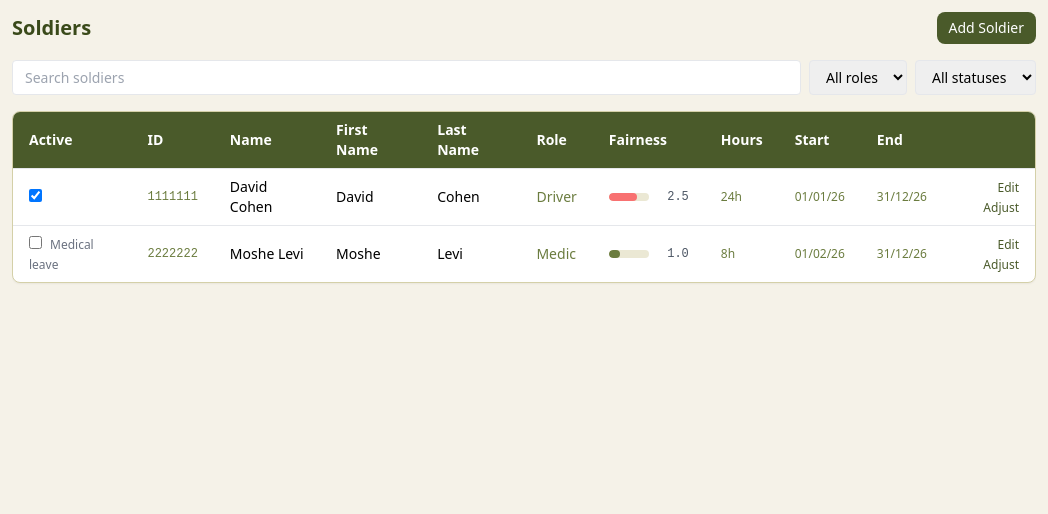
Scenario: SoldiersPage › shows full edit form when Edit button is clicked
The width and height of the screenshot is (1048, 514).
Step 1. Click the button "Edit" in the row of "1111111" → (1008, 188), box [998,180,1019,196]
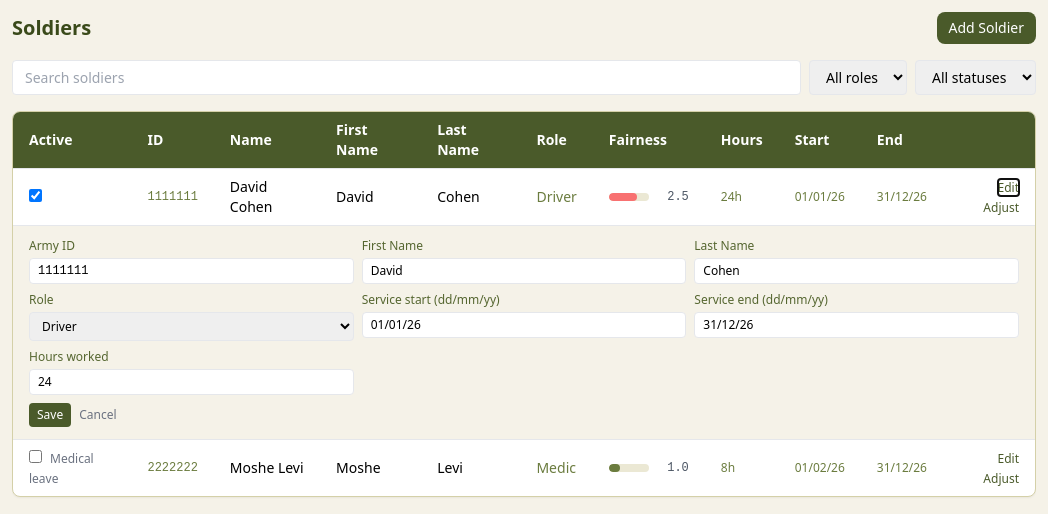
Result: the 2nd field showing "David" is shown at [362,258,686,284]
Result: the 3rd field showing "Cohen" is shown at [694,258,1019,284]
Result: the field showing "1111111" below "Army ID" is shown at [29,258,354,284]
